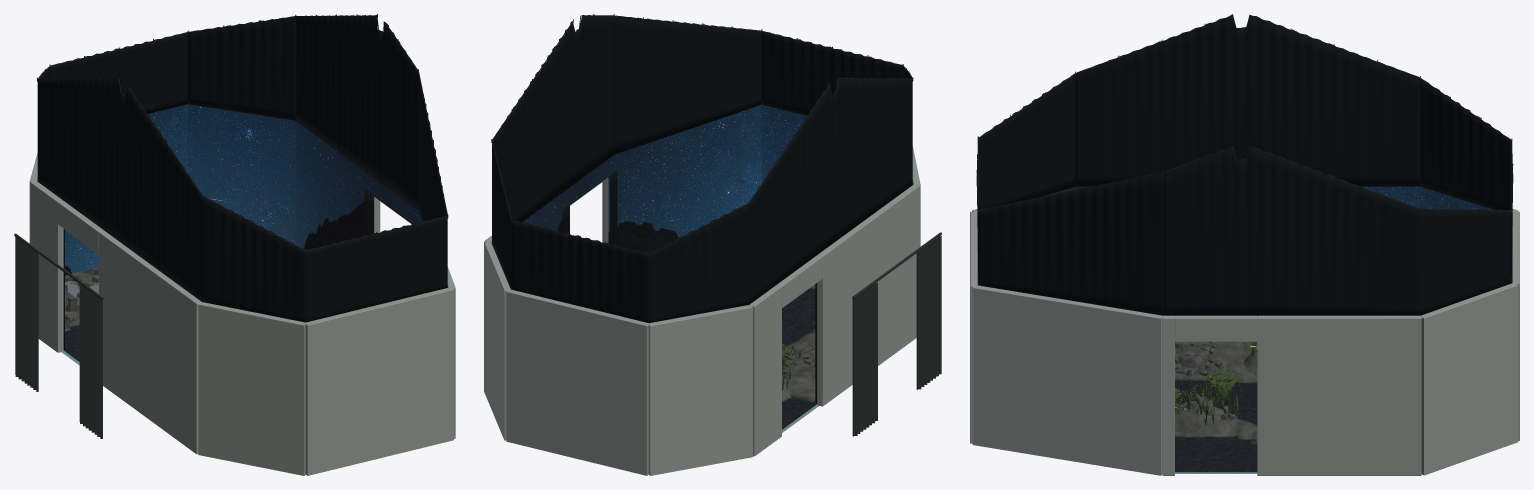
File: r31-immersive.glb
The picture shows the model from 3 angles, left to right: view 1: azimuth 30°, elevation 25°; view 2: azimuth 150°, elevation 25°; view 3: azimuth 270°, elevation 25°; orthographic projection. The views are drawn at different scales.
Parts seen in each view (by area): view 1: R25_immersion_upper_batch_024, R25_immersion_batch_013, R25_immersion_batch_018, R25_immersion_batch_015, R25_immersion_upper_batch_025, R25_immersion_batch_016, R25_immersion_batch_027; view 2: R25_immersion_upper_batch_024, R25_immersion_batch_013, R25_immersion_batch_018, R25_immersion_batch_015, R25_immersion_batch_016, R25_immersion_batch_019, R25_immersion_upper_batch_025, R25_immersion_batch_027; view 3: R25_immersion_upper_batch_024, R25_immersion_batch_013, R25_immersion_batch_016, R25_immersion_batch_019, R25_immersion_batch_017, R25_immersion_batch_018, R25_immersion_upper_batch_025.
Part boxes in pixels (left/top/right/bottom): R25_immersion_upper_batch_024: left=37, top=15, right=447, bottom=322; R25_immersion_batch_013: left=29, top=153, right=455, bottom=475; R25_immersion_batch_018: left=37, top=104, right=422, bottom=275; R25_immersion_batch_015: left=14, top=233, right=103, bottom=438; R25_immersion_upper_batch_025: left=37, top=14, right=448, bottom=252; R25_immersion_batch_016: left=65, top=267, right=98, bottom=331; R25_immersion_batch_027: left=63, top=190, right=372, bottom=349; R25_immersion_upper_batch_024: left=492, top=15, right=912, bottom=322; R25_immersion_batch_013: left=484, top=146, right=920, bottom=475; R25_immersion_batch_018: left=491, top=104, right=912, bottom=252; R25_immersion_batch_015: left=852, top=232, right=941, bottom=436; R25_immersion_batch_016: left=782, top=284, right=815, bottom=402; R25_immersion_batch_019: left=782, top=288, right=816, bottom=429; R25_immersion_upper_batch_025: left=491, top=14, right=913, bottom=256; R25_immersion_batch_027: left=562, top=171, right=816, bottom=403; R25_immersion_upper_batch_024: left=976, top=14, right=1513, bottom=315; R25_immersion_batch_013: left=970, top=209, right=1519, bottom=475; R25_immersion_batch_016: left=1175, top=341, right=1257, bottom=445; R25_immersion_batch_019: left=1175, top=380, right=1257, bottom=472; R25_immersion_batch_017: left=1175, top=341, right=1257, bottom=425; R25_immersion_batch_018: left=977, top=186, right=1512, bottom=284; R25_immersion_upper_batch_025: left=977, top=15, right=1512, bottom=212.
Size of the model in its own units: 6.54 by 5.95 by 9.02.
Materials: 13 (4 with a texture image).
